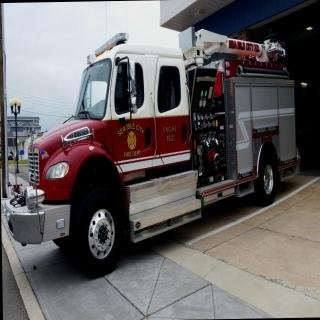Fire_truck: (0, 24, 303, 280)
